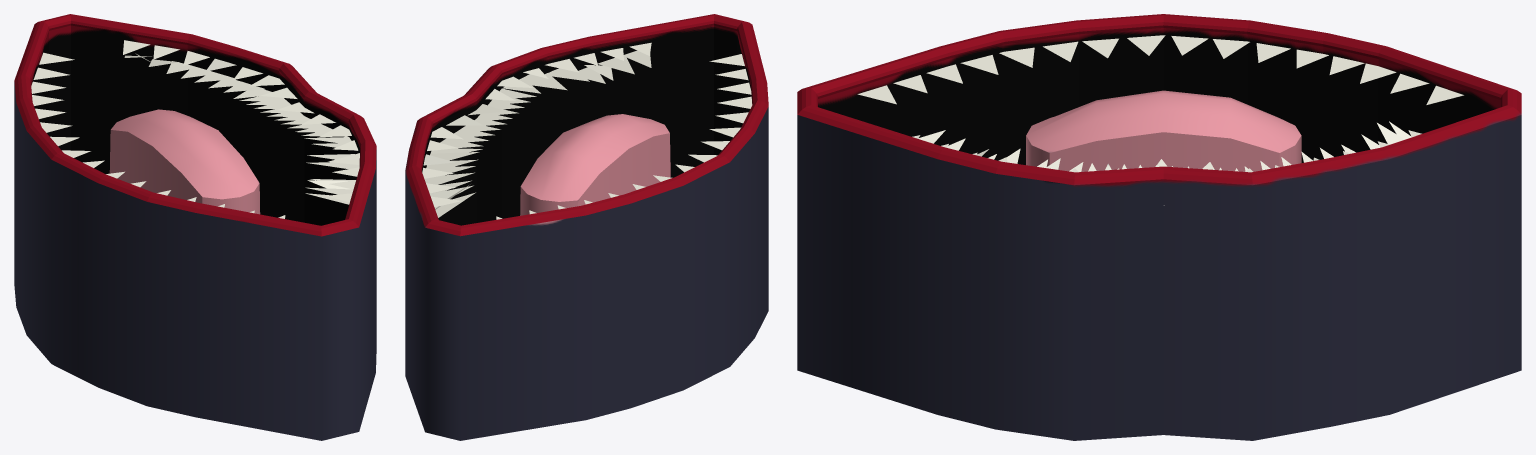
File: Mouth.FBX
The picture shows the model from 3 angles, left to right: view 1: azimuth 30°, elevation 25°; view 2: azimuth 150°, elevation 25°; view 3: azimuth 270°, elevation 25°; orthographic projection. The views are drawn at different scales.
Visible parts, largest first — view 1: Suu; view 2: Suu; view 3: Suu.
Boxes of the visible parts, box(x1,y1,x2,y2) form: Suu: box(14, 14, 376, 440); Suu: box(405, 14, 768, 440); Suu: box(797, 14, 1521, 440).
Bounding box in the file's own units: 15.29 × 11.08 × 27.69.
